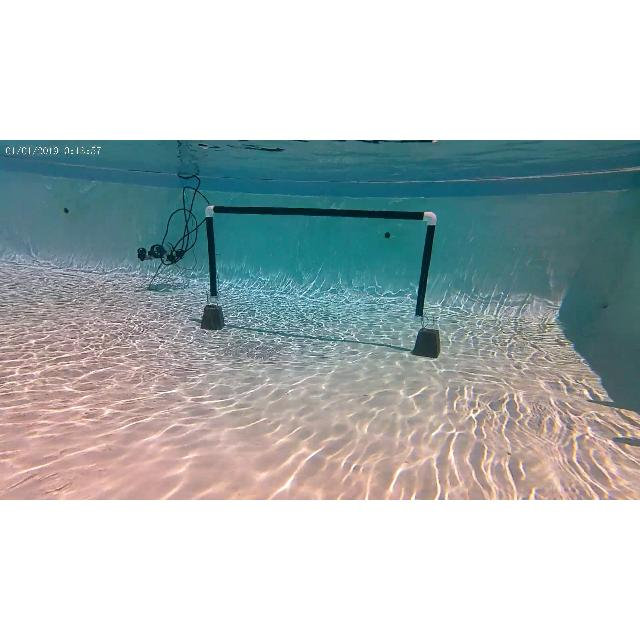prequal gate: (207, 206, 438, 304)
prequal gate leg l: (207, 207, 223, 301)
prequal gate leg r: (414, 207, 438, 325)
